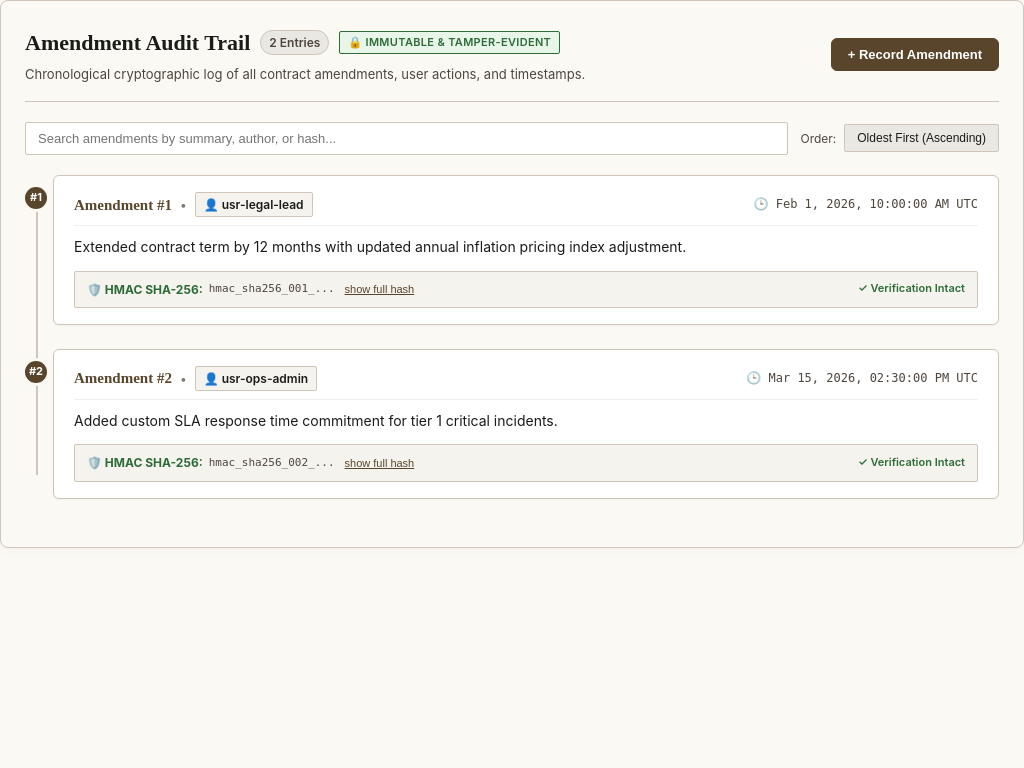
Test: AmendmentTimeline Component › filters timeline items based on search input query
Type "custom SLA" into the field with test id "amendment-search-input" at (407, 138), box [25,122,788,155]
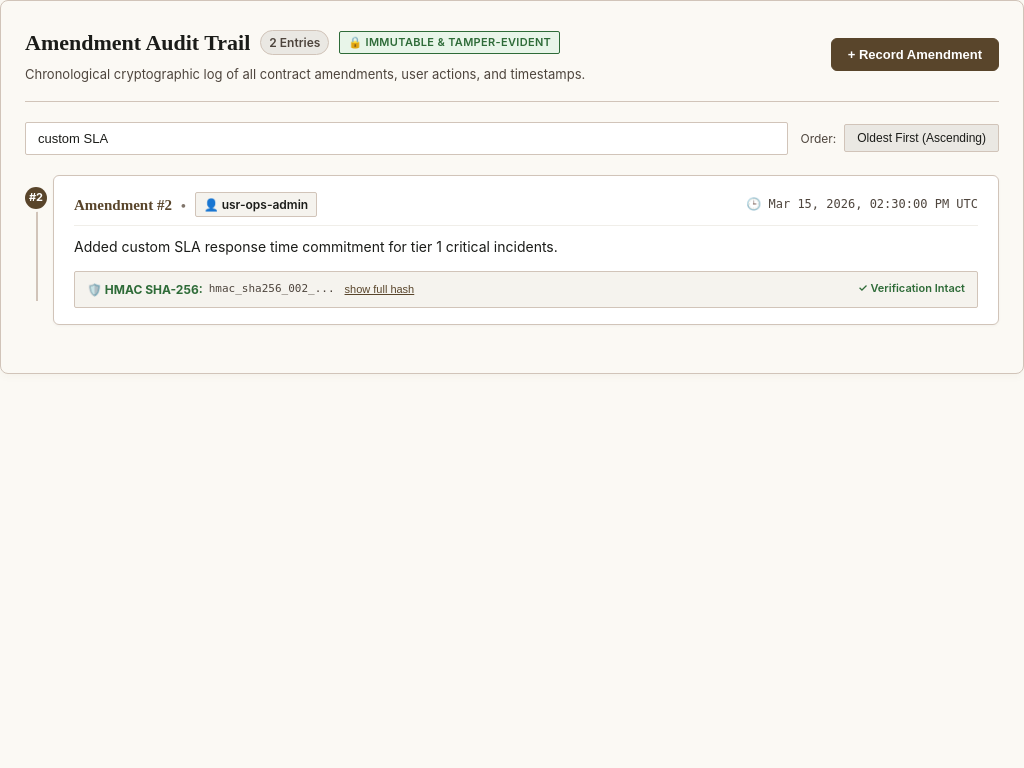
Expected: the text with test id "amendment-summary" shows "Added custom SLA response time commitment", [74,238,558,255]
Now the number of elements with test id "amendment-item" is 1, box [53,175,999,325]
